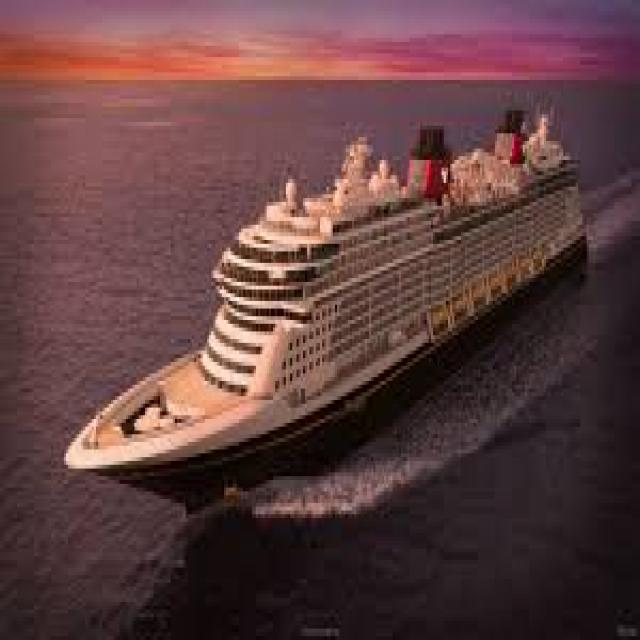PassengerShip: (40, 86, 607, 492)
